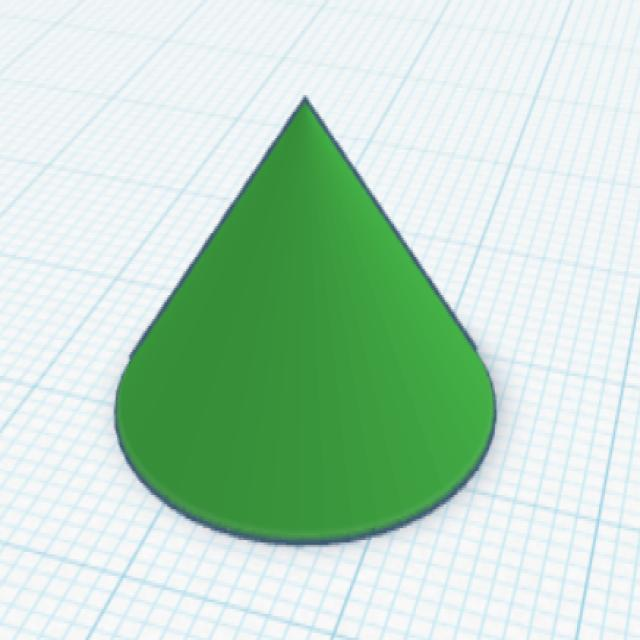cone: (110, 90, 500, 552)
